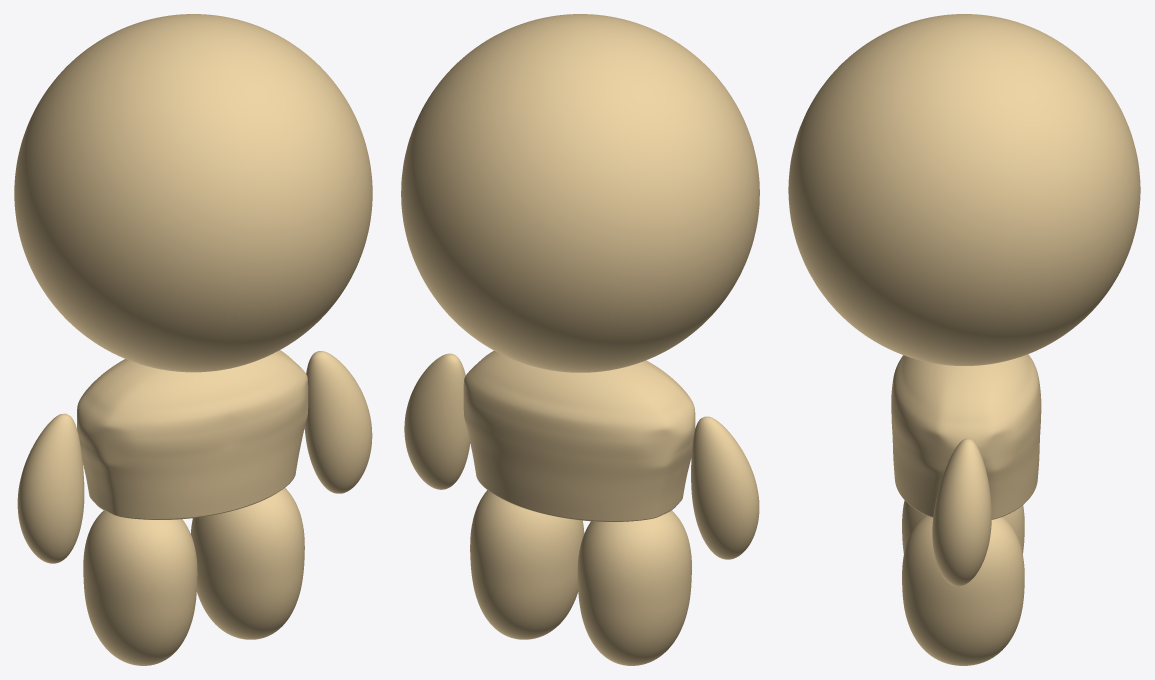
Rendered from Masculine-Masculine-taper-base-4ee10f1a.glb.
3 renders of one model, left to right at view 1: azimuth 30°, elevation 25°; view 2: azimuth 150°, elevation 25°; view 3: azimuth 270°, elevation 25°, orthographic.
Visible parts, largest first — view 1: Skin / soft oval head, Skin / rounded torso, Skin / leg blob -1, Skin / leg blob 1, Skin / swept arm -1, Skin / swept arm 1; view 2: Skin / soft oval head, Skin / rounded torso, Skin / leg blob -1, Skin / leg blob 1, Skin / swept arm -1, Skin / swept arm 1; view 3: Skin / soft oval head, Skin / rounded torso, Skin / leg blob 1, Skin / swept arm 1, Skin / leg blob -1.
Boxes of the visible parts, x1=… form: Skin / soft oval head: x1=14, y1=14, x2=372, y2=372; Skin / rounded torso: x1=77, y1=350, x2=308, y2=519; Skin / leg blob -1: x1=83, y1=510, x2=197, y2=665; Skin / leg blob 1: x1=190, y1=488, x2=304, y2=639; Skin / swept arm -1: x1=17, y1=413, x2=84, y2=563; Skin / swept arm 1: x1=304, y1=351, x2=372, y2=493; Skin / soft oval head: x1=401, y1=14, x2=759, y2=372; Skin / rounded torso: x1=463, y1=351, x2=695, y2=521; Skin / leg blob -1: x1=577, y1=510, x2=691, y2=665; Skin / leg blob 1: x1=470, y1=490, x2=584, y2=639; Skin / swept arm -1: x1=691, y1=416, x2=759, y2=559; Skin / swept arm 1: x1=404, y1=353, x2=470, y2=489; Skin / soft oval head: x1=788, y1=14, x2=1140, y2=365; Skin / rounded torso: x1=891, y1=354, x2=1041, y2=519; Skin / leg blob 1: x1=902, y1=515, x2=1024, y2=665; Skin / swept arm 1: x1=932, y1=438, x2=991, y2=586; Skin / leg blob -1: x1=902, y1=500, x2=1024, y2=553.
Bounding box in the file's own units: 1.07 × 1.82 × 0.96.
